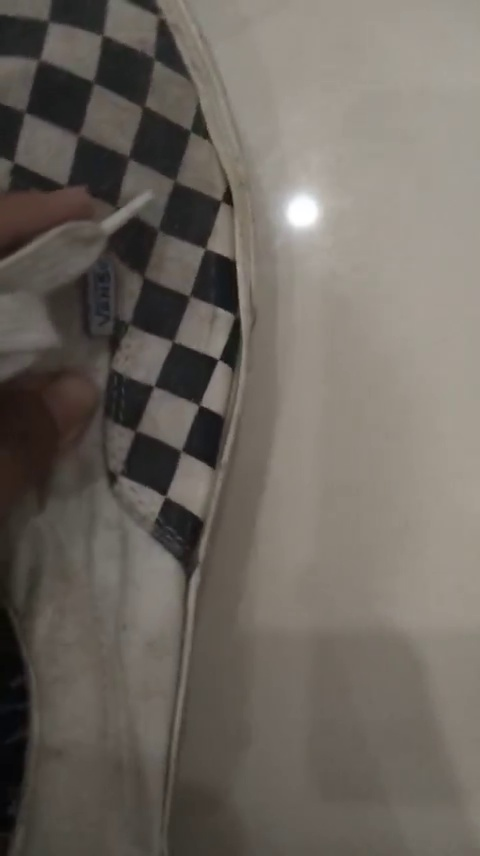bonding: (218, 193, 259, 476)
